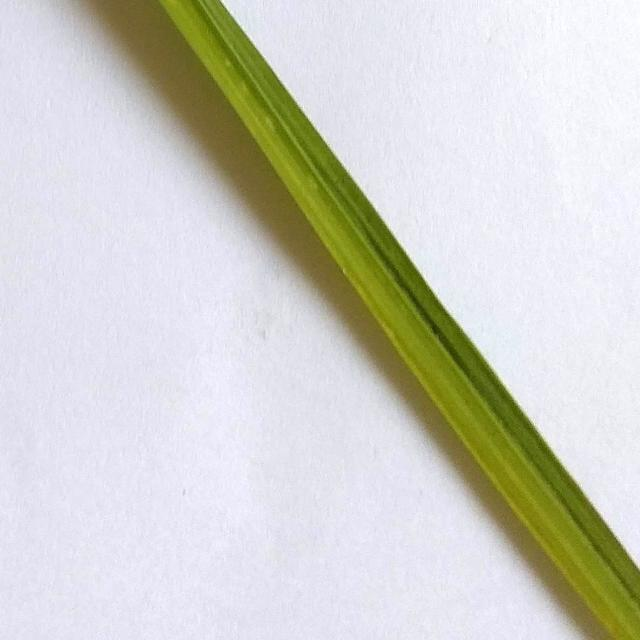Rice_Healthy: (160, 0, 640, 640)
